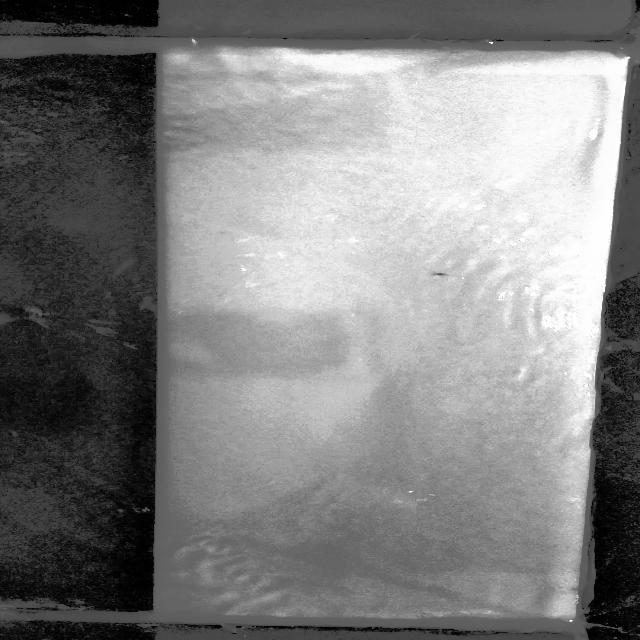shrimp: (418, 268, 452, 278)
